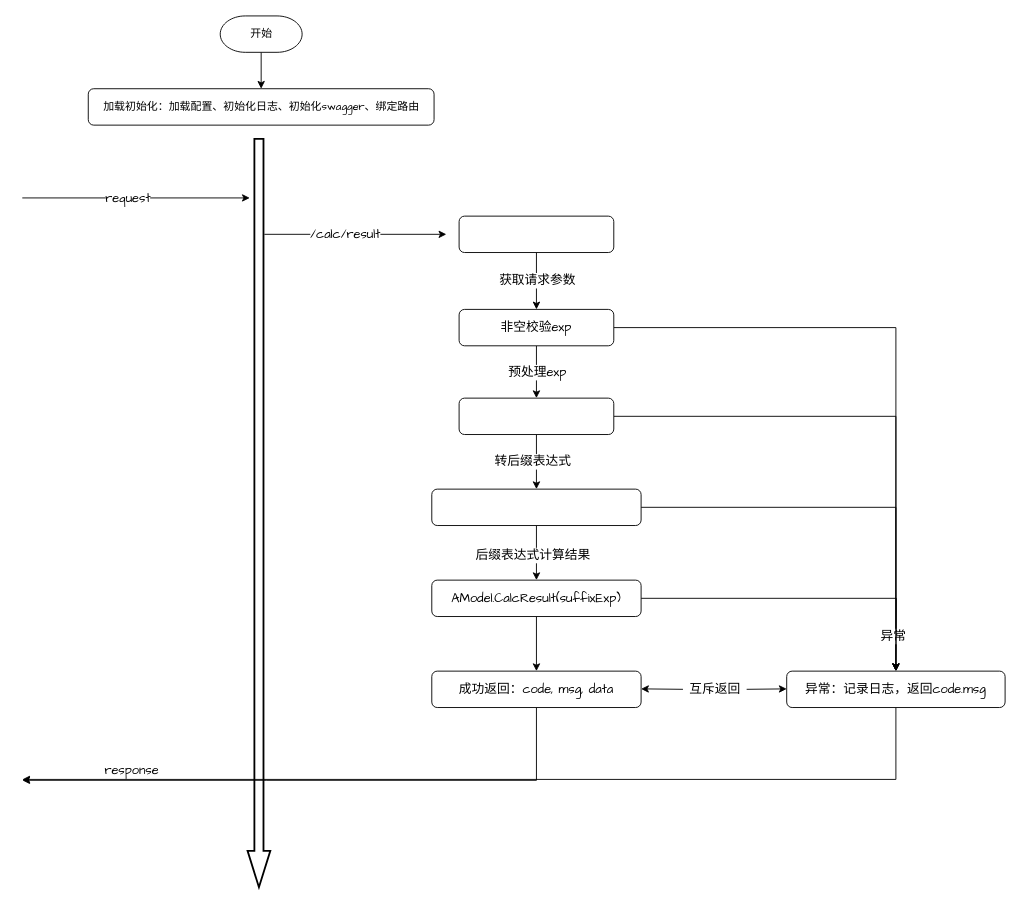
The diagram is 1021 pixels wide and 905 high, and some of its shapes have lost their labels. The shapes that lost their labels are listed below. From the top down, each one's centre as x and y in pixels, then its label:
At [536,234]: "controller.CalcResult".
At [536,416]: "AModel.PretreatExp(exp)".
At [536,507]: "AModel.ToSuffixExp(expElems)".
